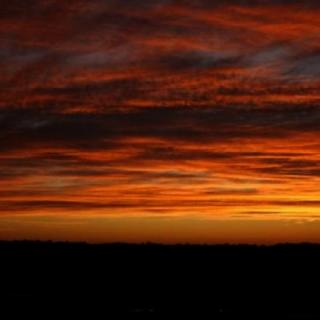Altostratus: (0, 1, 320, 242)
